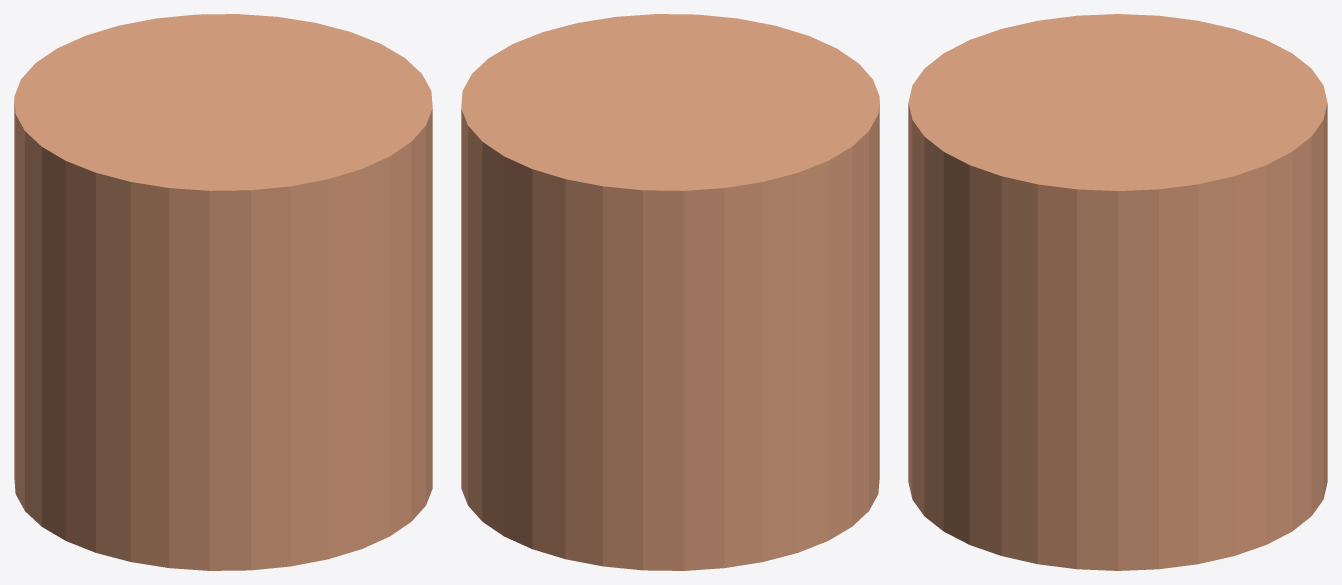
File: davidConeA3.gltf
3 views of the same model, side by side, from view 1: azimuth 30°, elevation 25°; view 2: azimuth 150°, elevation 25°; view 3: azimuth 270°, elevation 25° (orthographic).
Visible parts, largest first — view 1: davidConeA3; view 2: davidConeA3; view 3: davidConeA3.
Boxes of the visible parts, <box> form: davidConeA3: <box>14,14,432,570</box>; davidConeA3: <box>461,14,879,570</box>; davidConeA3: <box>908,14,1327,570</box>.
Bounding box in the file's own units: 0.3711 × 0.3711 × 0.3711.
